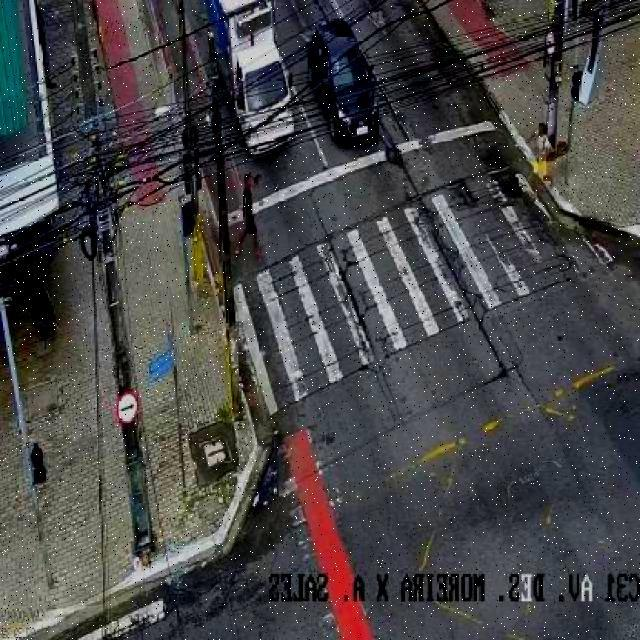Truck: (206, 0, 298, 156)
Van: (305, 20, 383, 151)
